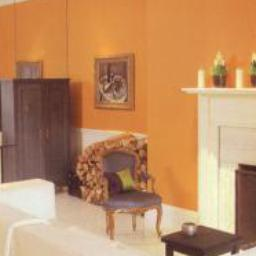Armario: (7, 79, 72, 182)
